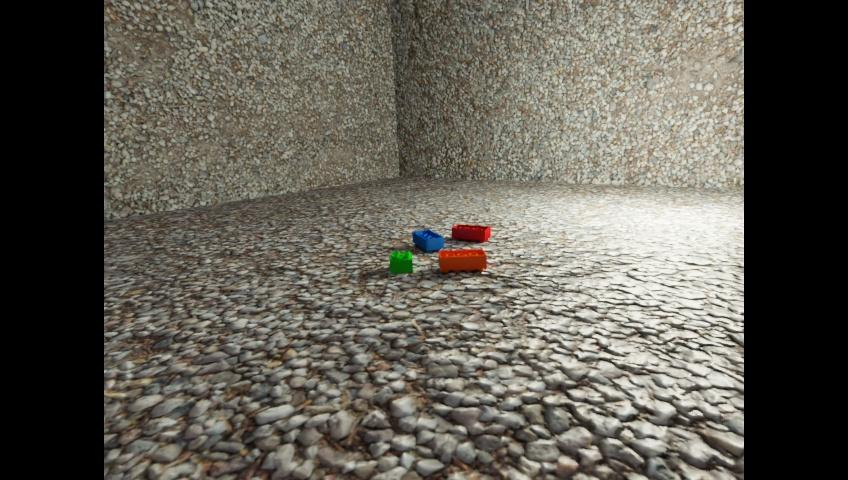2x2_green: (390, 250, 412, 273)
4x2_blue: (412, 229, 443, 252)
4x2_orange: (438, 248, 485, 272)
4x2_red: (451, 223, 490, 242)
